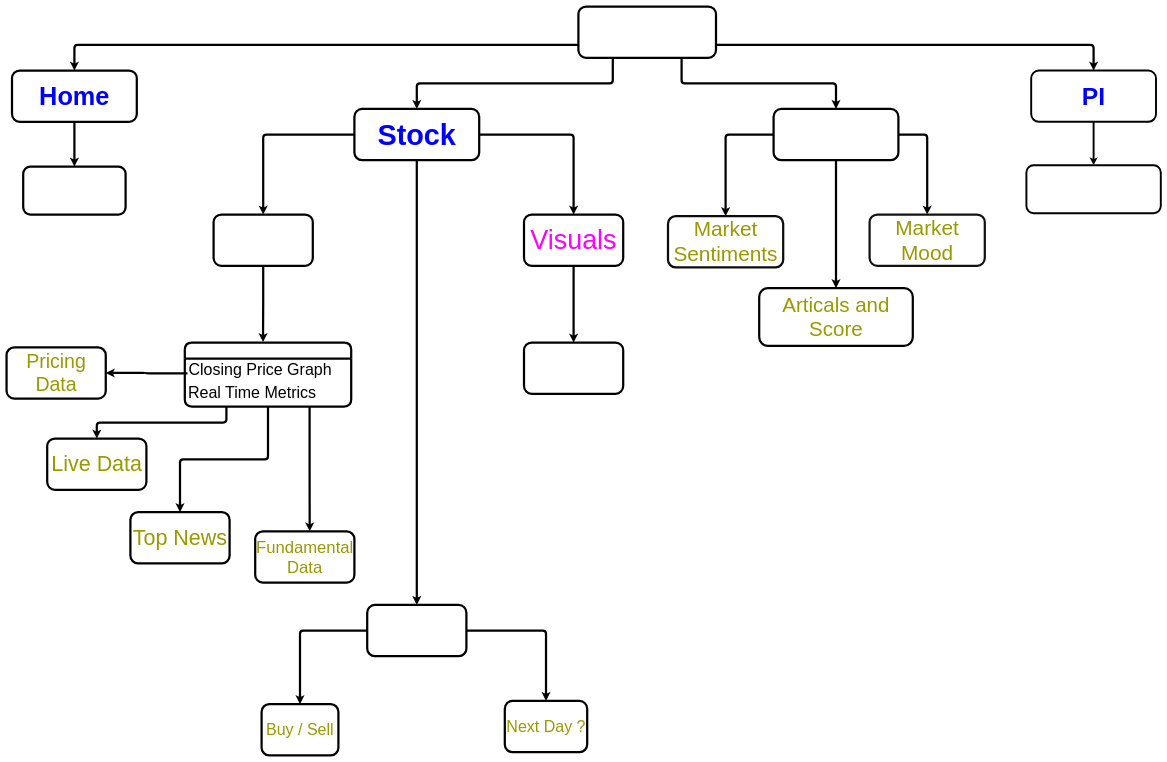
Some shapes in this 1167 by 762 pixel diagram are drawn without their labels. Here are the shapes that lost their labels. From the top down, the centre of each, then its label:
At [647,32]: "Main".
At [835,134]: "Sentiment".
At [74,190]: "About The Page".
At [1093,189]: "Ask Queries".
At [263,240]: "Real Time Data".
At [573,368]: "Forcasting".
At [416,630]: "Prediction".
